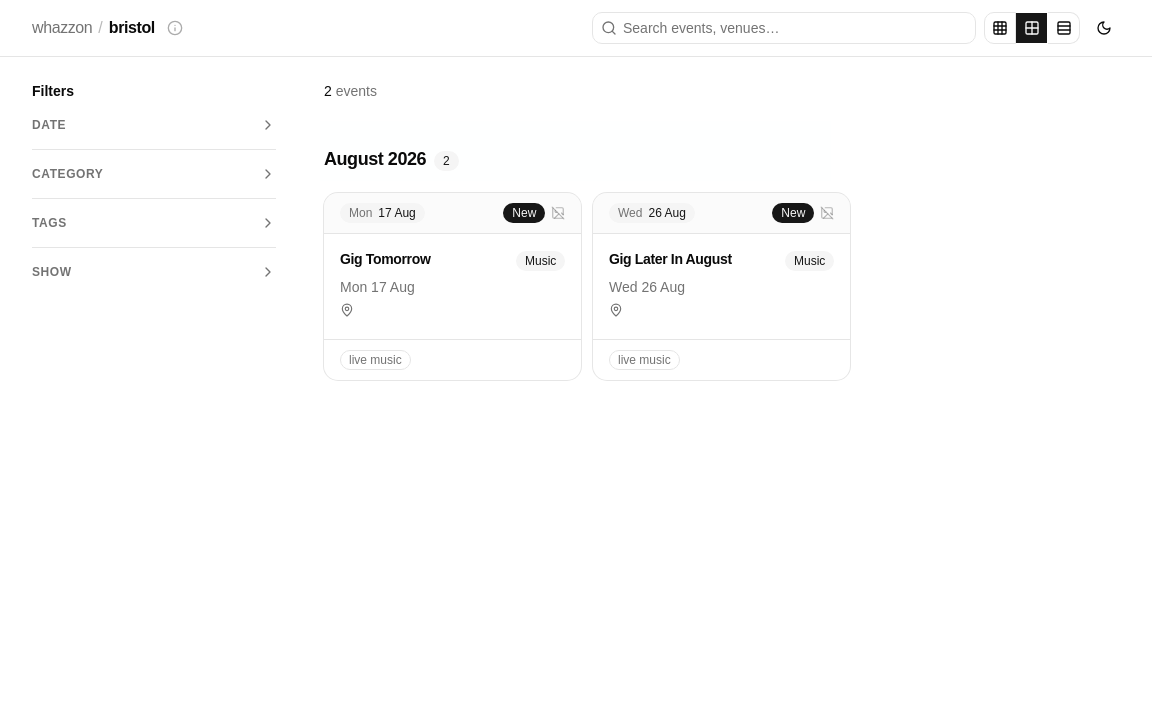
the date control, on the real page › filters the visible events when a range is chosen
Expected: the heading "Gig Tomorrow" is shown, x1=340 y1=251 x2=430 y2=267
Click the button "Date" at (154, 125), box x1=32 y1=113 x2=276 y2=137
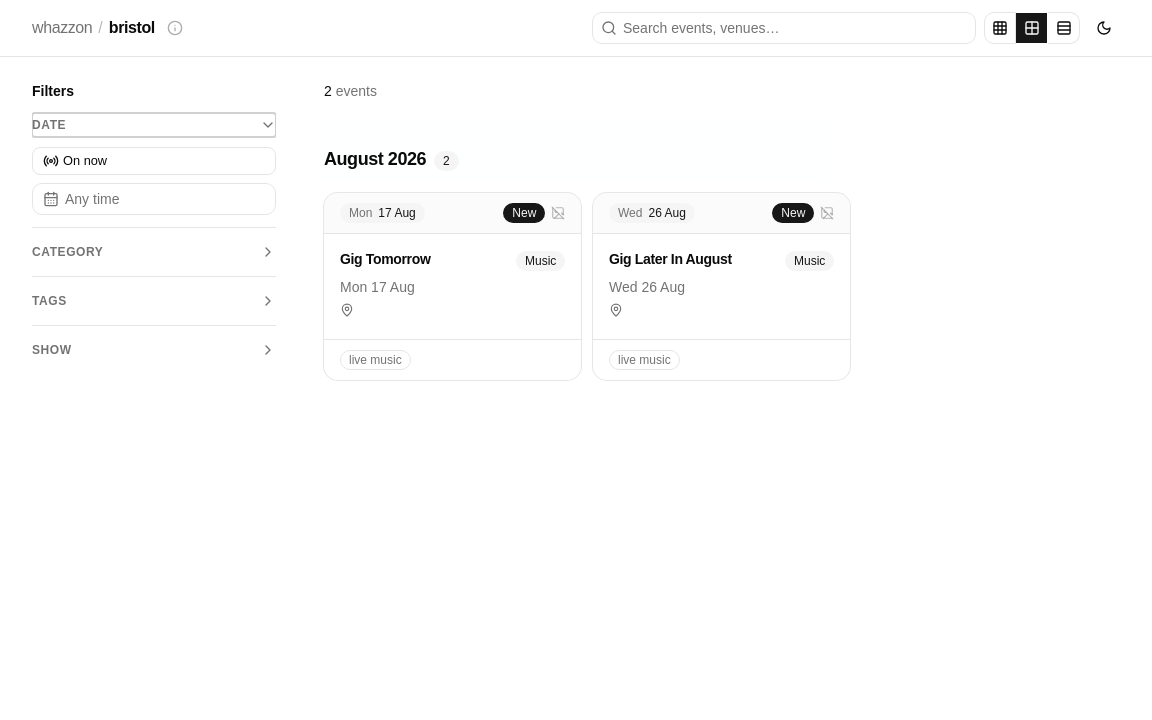
Expected: the heading "Gig Later In August" is shown, x1=609 y1=251 x2=732 y2=267
Click the button "Any time" at (154, 199), box x1=32 y1=183 x2=276 y2=215
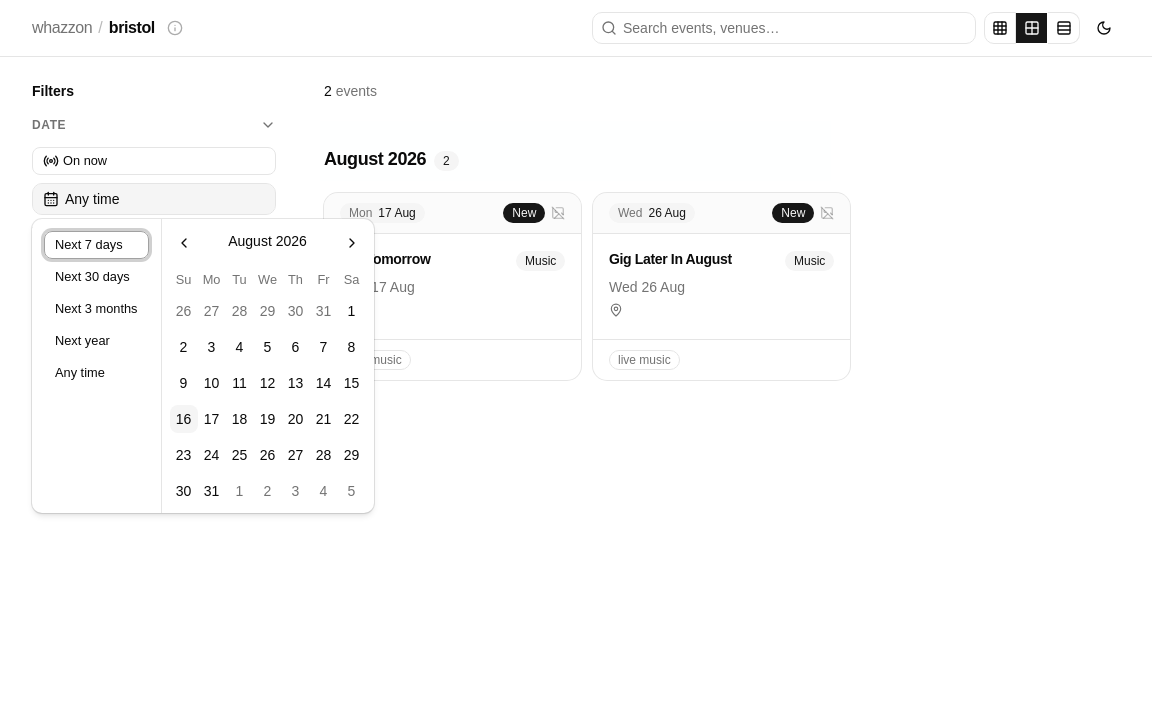
Click the button "Next 7 days" at (96, 245), box x1=44 y1=231 x2=148 y2=259
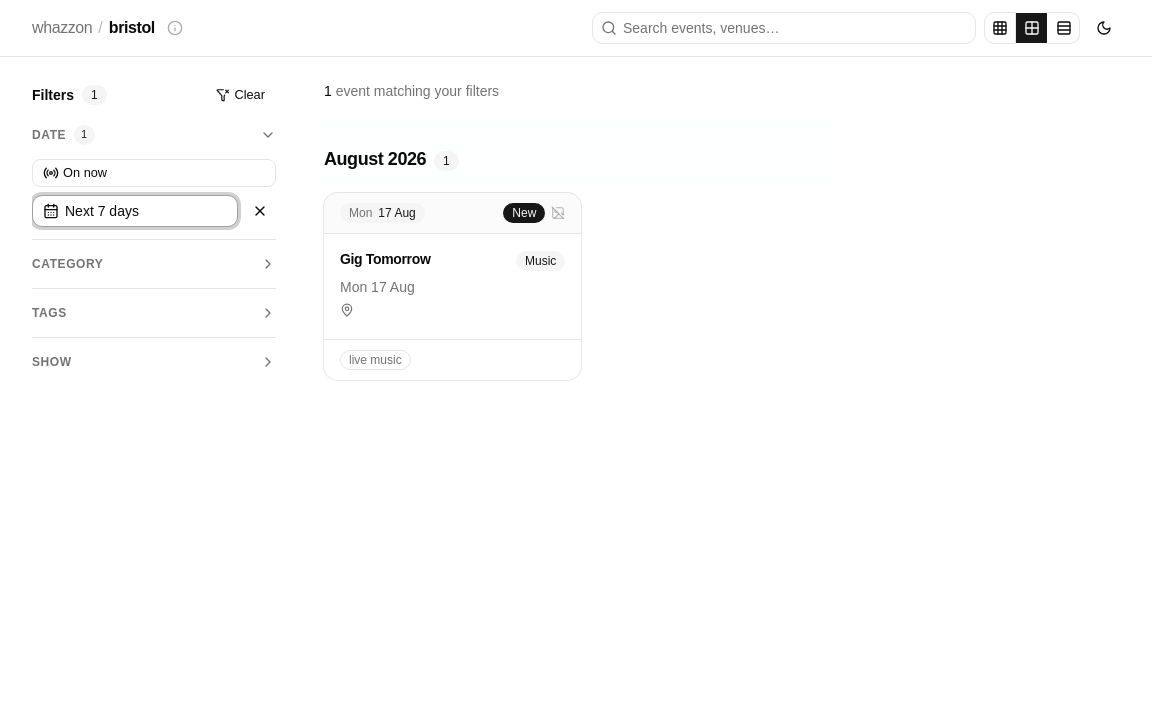
Expected: the heading "Gig Tomorrow" is shown, x1=340 y1=251 x2=430 y2=267
Expected: the button "Gig Later In August" is gone
